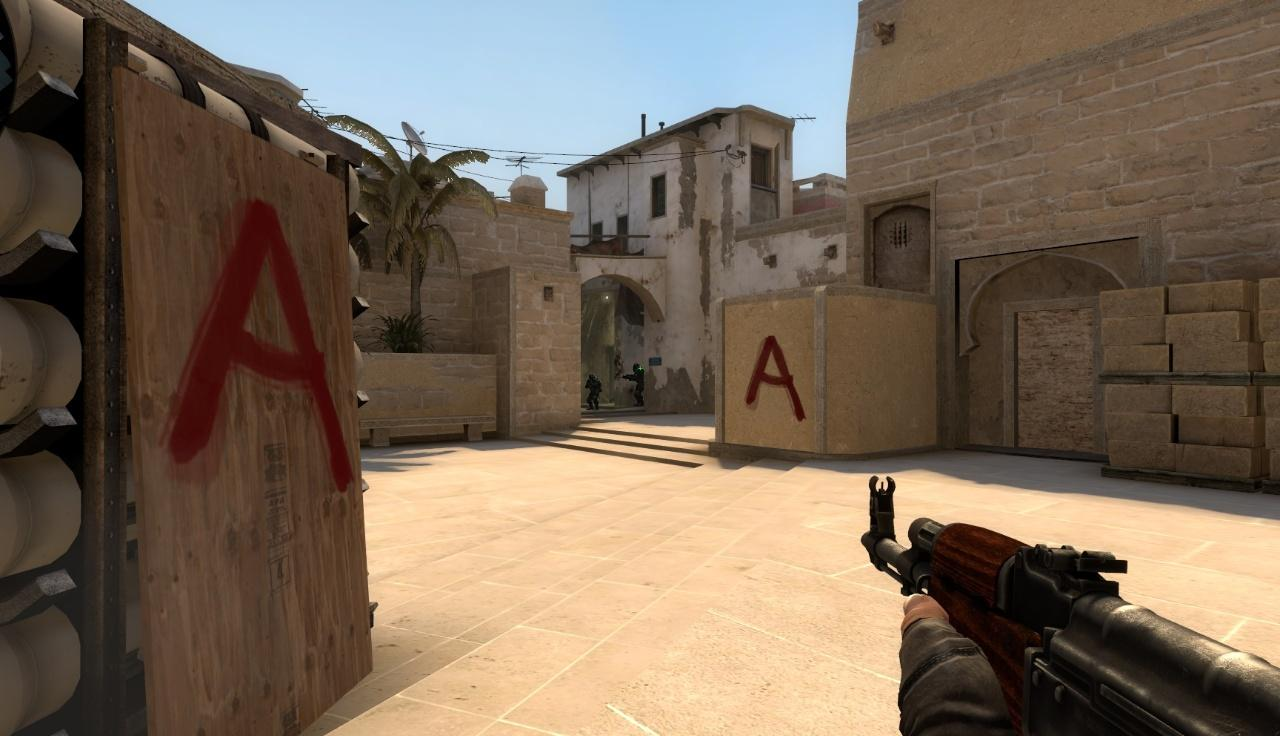ct: (629, 363, 644, 407), (585, 374, 602, 410)
cthead: (633, 363, 640, 372), (589, 374, 595, 381)
rifle: (862, 475, 1280, 736)
